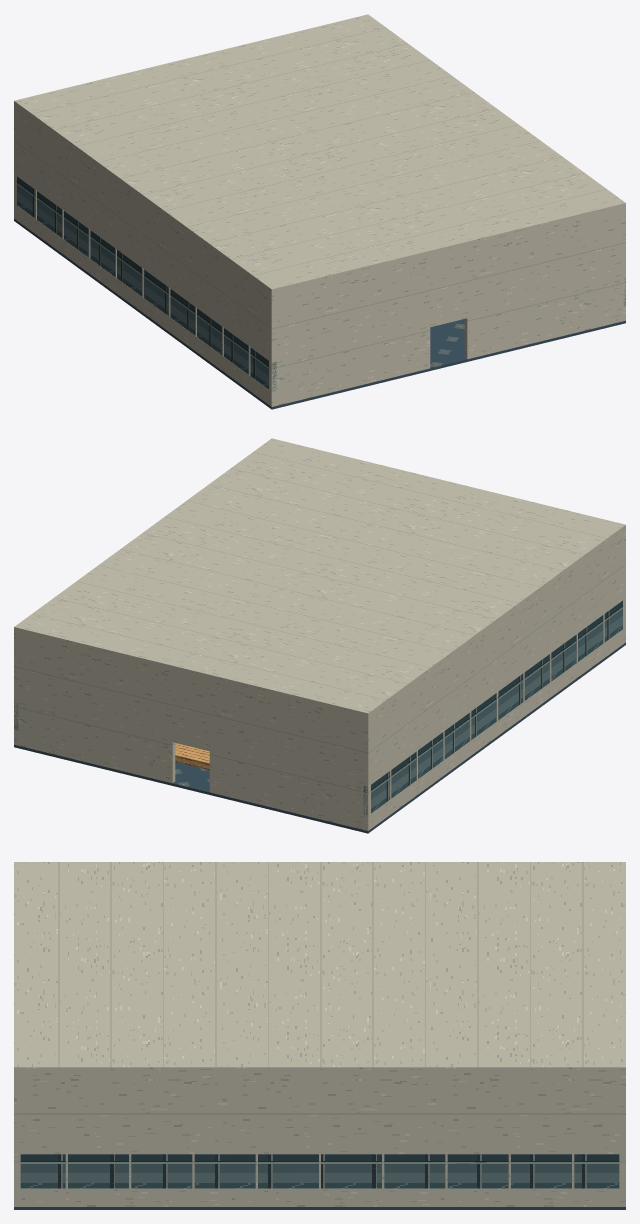
Rendered from mv-main-dining.glb.
The picture shows the model from 3 angles, top to bottom: view 1: azimuth 30°, elevation 25°; view 2: azimuth 150°, elevation 25°; view 3: azimuth 270°, elevation 25°; orthographic projection. The views are drawn at different scales.
Parts seen in each view (by area): view 1: shell.001, floor_mv-main-dining; view 2: shell.001, floor_mv-main-dining, fittings.001; view 3: shell.001, floor_mv-main-dining.
Boxes of the visible parts, bbox=[...] form: shell.001: bbox=[14, 14, 625, 406]; floor_mv-main-dining: bbox=[14, 218, 625, 409]; shell.001: bbox=[14, 438, 625, 830]; floor_mv-main-dining: bbox=[14, 642, 625, 833]; fittings.001: bbox=[175, 743, 209, 770]; shell.001: bbox=[14, 862, 625, 1206]; floor_mv-main-dining: bbox=[14, 1207, 625, 1209].
Size of the model in its own units: 23.04 by 7.46 by 29.
Materials: 6 (6 with a texture image).
